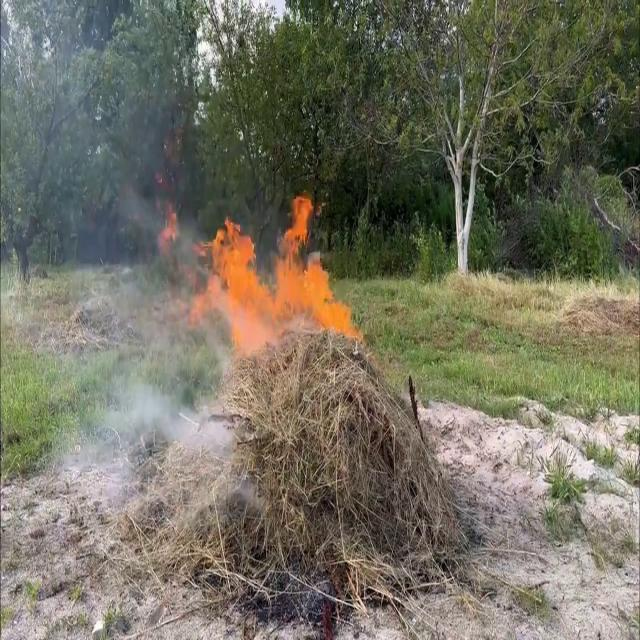Fire: (186, 190, 360, 367)
Smoke: (94, 318, 212, 476)
